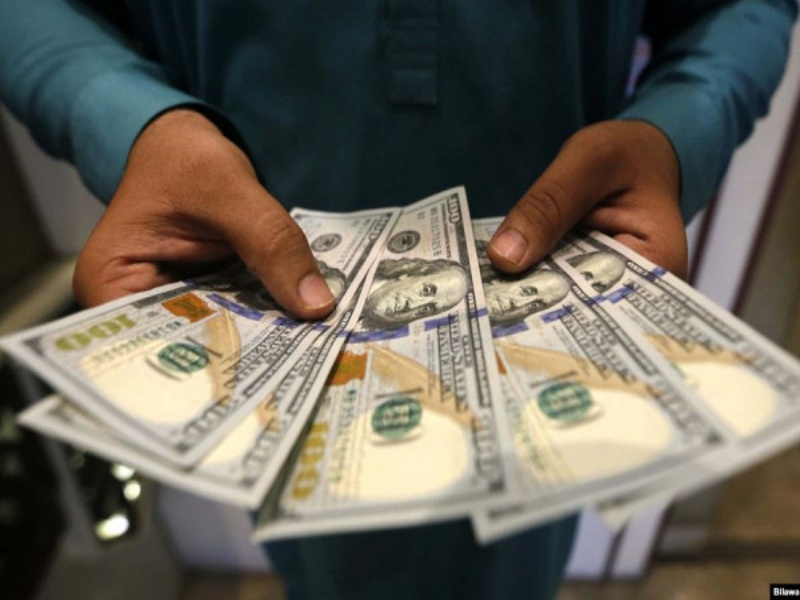cash: (1, 185, 800, 546)
